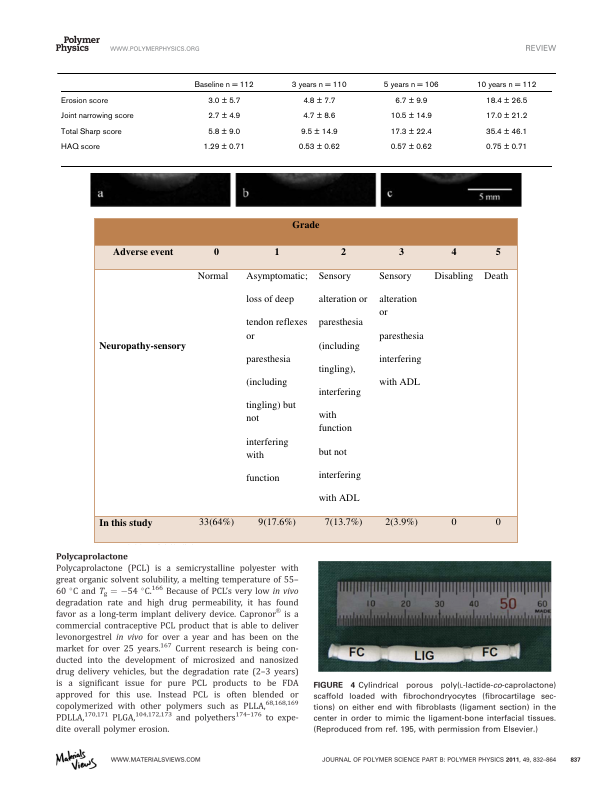bordered: (93, 217, 517, 542)
borderless: (56, 71, 552, 166)
cell: (245, 269, 309, 484), (318, 269, 368, 504), (378, 269, 425, 388), (98, 338, 187, 352), (112, 244, 174, 258), (59, 112, 134, 122), (98, 515, 154, 528), (59, 127, 122, 137), (475, 80, 537, 90), (193, 80, 254, 90), (290, 80, 347, 90), (382, 80, 439, 90), (434, 269, 474, 282), (257, 515, 297, 528), (324, 515, 363, 528), (59, 96, 108, 106), (198, 515, 235, 528), (384, 515, 419, 528), (484, 96, 528, 106), (484, 112, 528, 122), (484, 127, 528, 137), (484, 143, 528, 153), (389, 112, 432, 122), (389, 127, 432, 137), (202, 143, 245, 153), (297, 143, 340, 153), (389, 143, 432, 153), (197, 269, 229, 282), (59, 143, 100, 153), (291, 217, 320, 231), (299, 127, 338, 137), (207, 96, 241, 106), (302, 96, 336, 106), (394, 96, 428, 106), (207, 112, 241, 122), (302, 112, 336, 122), (207, 127, 241, 137), (483, 269, 509, 282), (213, 244, 220, 258), (274, 244, 281, 258), (340, 244, 347, 258), (398, 244, 405, 258), (450, 244, 457, 258), (495, 244, 502, 258), (450, 515, 457, 528), (495, 515, 502, 528)
